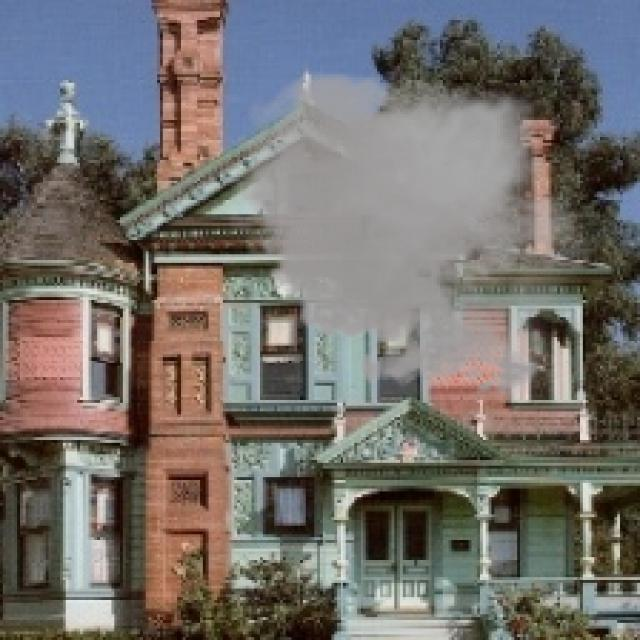smoke: (220, 60, 600, 406)
